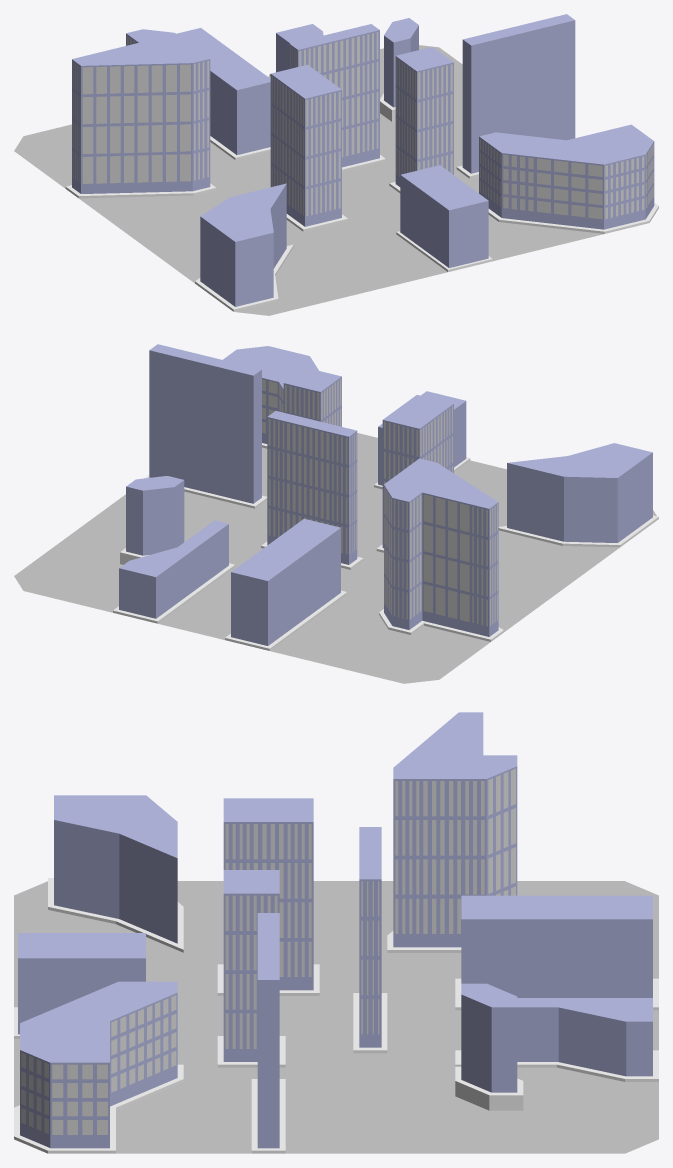
The model's file is stgae.fbx.
3 renders of one model, top to bottom at view 1: azimuth 30°, elevation 25°; view 2: azimuth 150°, elevation 25°; view 3: azimuth 270°, elevation 25°, orthographic. The views are drawn at different scales.
Parts seen in each view (by area): view 1: グリッド; view 2: グリッド; view 3: グリッド.
Boxes of the visible parts, left/top/right/bottom form: グリッド: left=14, top=14, right=658, bottom=315; グリッド: left=14, top=344, right=658, bottom=683; グリッド: left=14, top=712, right=658, bottom=1153.
Bounding box in the file's own units: 528 × 155 × 528.
